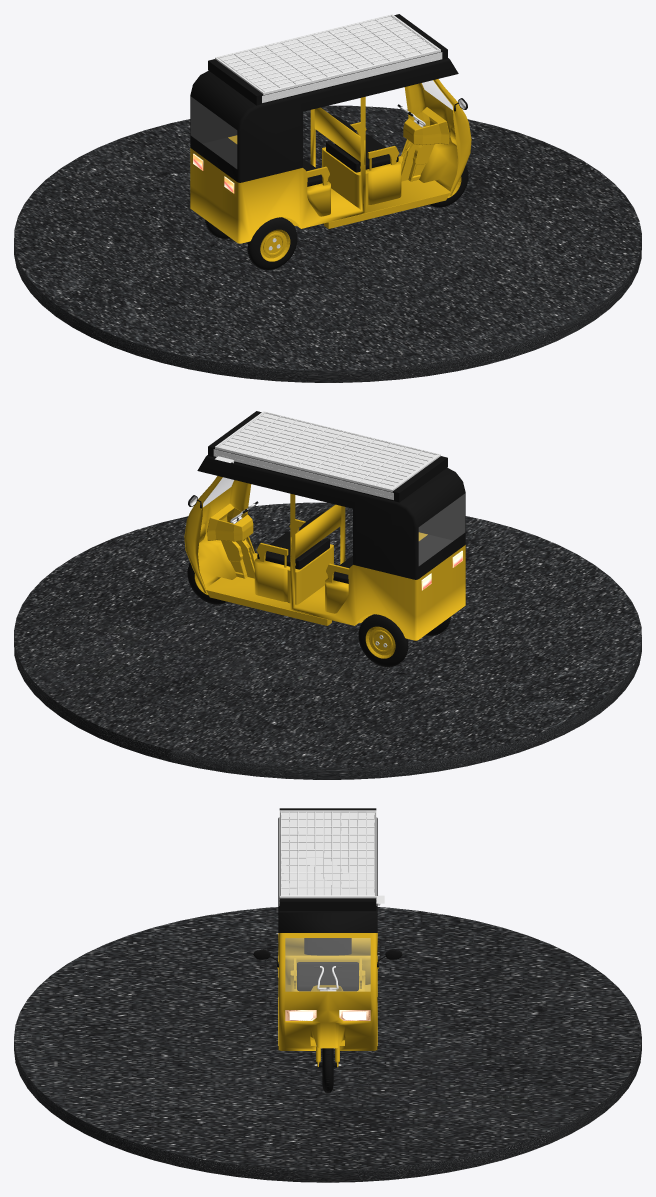
File: keke_napep.glb
3 renders of one model, top to bottom at view 1: azimuth 30°, elevation 25°; view 2: azimuth 150°, elevation 25°; view 3: azimuth 270°, elevation 25°, orthographic.
Parts seen in each view (by area): view 1: Cylinder.009_47, Cube_0, Cube.003_14, Plane.008_62, Plane.013_71, Cube.006_7, Cube.013_16, Cube.024_65, Cube.001_13, BezierCircle.001_38, Cube.012_12, Cube.007_8 (+10 smaller); view 2: Cylinder.009_47, Cube_0, Cube.003_14, Plane.008_62, Plane.013_71, Cube.006_7, Cube.013_16, Cube.024_65, Cube.001_13, BezierCircle.001_38, Cube.012_12, Cube.007_8 (+10 smaller); view 3: Cylinder.009_47, Plane.008_62, Cube.006_7, Cube.005_15, Plane.013_71, Cube.001_13, Cube.024_65, Cube.023_37, Cube.021_35, Cube_0, Cube.016_18, Plane.010_64 (+1 smaller).
Boxes of the visible parts, x1=… form: Cylinder.009_47: x1=14, y1=105, x2=641, y2=382; Cube_0: x1=190, y1=97, x2=450, y2=243; Cube.003_14: x1=190, y1=70, x2=365, y2=182; Plane.008_62: x1=219, y1=16, x2=436, y2=91; Plane.013_71: x1=218, y1=15, x2=437, y2=91; Cube.006_7: x1=401, y1=79, x2=471, y2=196; Cube.013_16: x1=191, y1=97, x2=236, y2=168; Cube.024_65: x1=208, y1=14, x2=447, y2=105; Cube.001_13: x1=365, y1=58, x2=458, y2=96; BezierCircle.001_38: x1=204, y1=217, x2=297, y2=270; Cube.012_12: x1=322, y1=147, x2=368, y2=207; Cube.007_8: x1=403, y1=107, x2=449, y2=145; Cylinder.009_47: x1=14, y1=502, x2=641, y2=779; Cube_0: x1=205, y1=493, x2=465, y2=640; Cube.003_14: x1=291, y1=467, x2=465, y2=579; Plane.008_62: x1=219, y1=413, x2=436, y2=488; Plane.013_71: x1=218, y1=412, x2=437, y2=488; Cube.006_7: x1=184, y1=476, x2=254, y2=593; Cube.013_16: x1=419, y1=494, x2=464, y2=565; Cube.024_65: x1=208, y1=411, x2=447, y2=502; Cube.001_13: x1=197, y1=455, x2=291, y2=493; BezierCircle.001_38: x1=358, y1=614, x2=451, y2=667; Cube.012_12: x1=287, y1=544, x2=333, y2=604; Cube.007_8: x1=207, y1=503, x2=253, y2=541; Cylinder.009_47: x1=14, y1=907, x2=641, y2=1182; Plane.008_62: x1=281, y1=812, x2=374, y2=895; Cube.006_7: x1=279, y1=933, x2=376, y2=1050; Cube.005_15: x1=285, y1=938, x2=370, y2=991; Plane.013_71: x1=280, y1=811, x2=375, y2=895; Cube.001_13: x1=278, y1=871, x2=377, y2=932; Cube.024_65: x1=279, y1=808, x2=376, y2=910; Cube.023_37: x1=297, y1=938, x2=358, y2=970; Cube.021_35: x1=297, y1=969, x2=358, y2=991; Cube_0: x1=278, y1=933, x2=377, y2=1045; Cube.016_18: x1=285, y1=955, x2=370, y2=984; Plane.010_64: x1=279, y1=810, x2=376, y2=898.
Bounding box in the file's own units: 6.57 × 2.27 × 6.57.
Materials: 14 (1 with a texture image).
